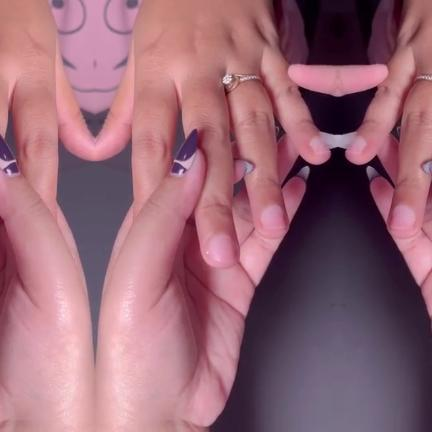Nail: (170, 128, 196, 175), (206, 234, 235, 262), (0, 135, 18, 175), (260, 205, 285, 229), (389, 205, 414, 229), (310, 137, 328, 154), (346, 137, 364, 154)
